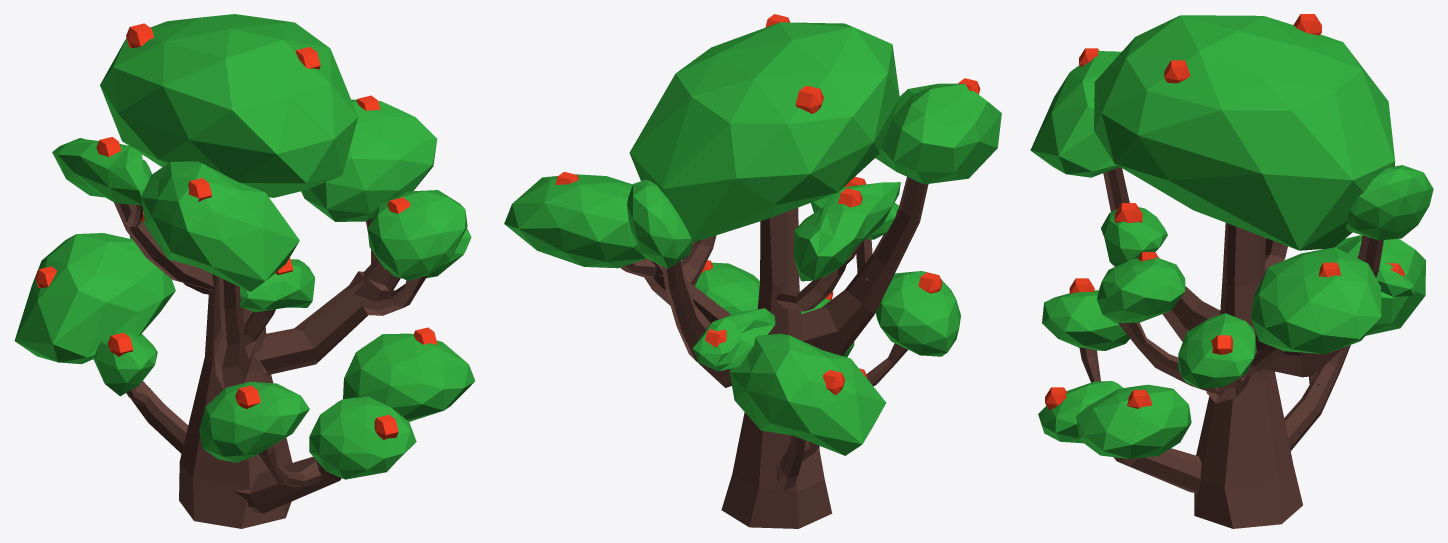
Rendered from tree_19.FBX.
3 renders of one model, left to right at view 1: azimuth 30°, elevation 25°; view 2: azimuth 150°, elevation 25°; view 3: azimuth 270°, elevation 25°, orthographic. The views are drawn at different scales.
Visible parts, largest first — view 1: tree_19; view 2: tree_19; view 3: tree_19.
Part boxes in pixels (x1,y1,x2,y2): tree_19: (14, 14, 475, 528); tree_19: (504, 14, 1001, 528); tree_19: (1030, 14, 1433, 528).
Bounding box in the file's own units: 5.02 × 6.01 × 4.68.
Materials: 1 (1 with a texture image).
